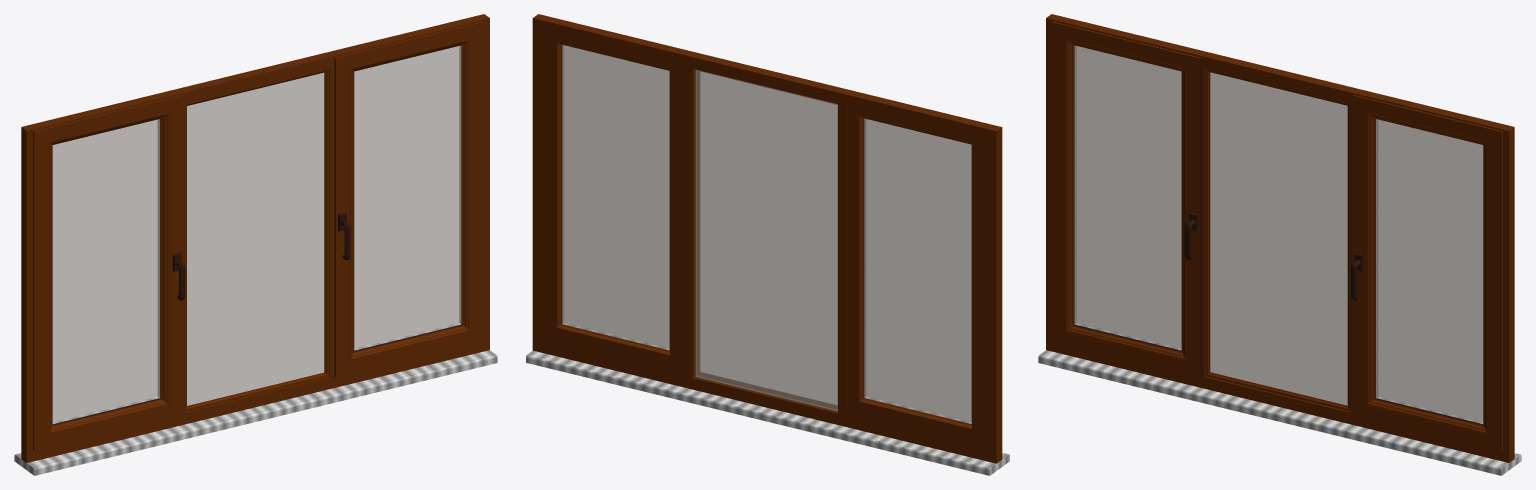
File: window_1.glb
The picture shows the model from 3 angles, left to right: view 1: azimuth 30°, elevation 25°; view 2: azimuth 150°, elevation 25°; view 3: azimuth 330°, elevation 25°; orthographic projection.
Parts seen in each view (by area): view 1: root; view 2: root; view 3: root.
Boxes of the visible parts, x1=… form: root: x1=14, y1=14, x2=497, y2=475; root: x1=526, y1=14, x2=1009, y2=475; root: x1=1038, y1=14, x2=1521, y2=475.
Size of the model in its own units: 2 by 1.4 by 0.15.
5 materials, 2 textured.
